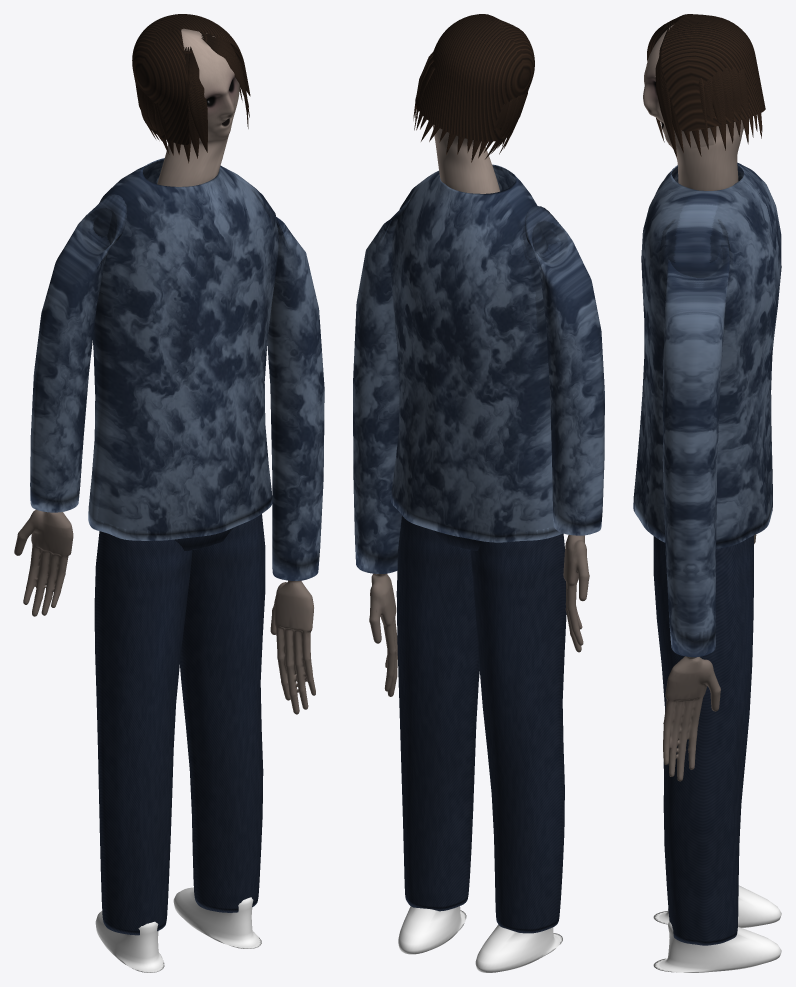
Rendered from Flawed_05_CabezaGirada.fbx.
The picture shows the model from 3 angles, left to right: view 1: azimuth 30°, elevation 25°; view 2: azimuth 150°, elevation 25°; view 3: azimuth 270°, elevation 25°; orthographic projection.
Parts seen in each view (by area): view 1: FL_Camisa, FL_Pantalon, FL_Cabello, FL_Brazos, FL_Cabeza, FL_Zapatos; view 2: FL_Camisa, FL_Pantalon, FL_Cabello, FL_Zapatos, FL_Brazos, FL_Cabeza; view 3: FL_Camisa, FL_Pantalon, FL_Cabello, FL_Zapatos, FL_Cabeza, FL_Brazos.
Boxes of the visible parts, left/top/right/bottom form: FL_Camisa: left=30, top=158, right=324, bottom=580; FL_Pantalon: left=94, top=514, right=265, bottom=935; FL_Cabello: left=132, top=14, right=250, bottom=163; FL_Brazos: left=14, top=509, right=315, bottom=714; FL_Cabeza: left=157, top=28, right=239, bottom=186; FL_Zapatos: left=95, top=887, right=261, bottom=972; FL_Camisa: left=353, top=164, right=604, bottom=573; FL_Pantalon: left=396, top=515, right=566, bottom=933; FL_Cabello: left=413, top=14, right=534, bottom=162; FL_Zapatos: left=398, top=906, right=562, bottom=972; FL_Brazos: left=369, top=535, right=589, bottom=696; FL_Cabeza: left=433, top=124, right=499, bottom=193; FL_Camisa: left=633, top=162, right=781, bottom=657; FL_Pantalon: left=653, top=535, right=753, bottom=945; FL_Cabello: left=647, top=14, right=765, bottom=158; FL_Zapatos: left=653, top=885, right=781, bottom=972; FL_Cabeza: left=643, top=25, right=743, bottom=190; FL_Brazos: left=663, top=534, right=756, bottom=781.
Bounding box in the file's own units: 0.5291 × 1.73 × 0.2523.
Materials: 6 (5 with a texture image).
